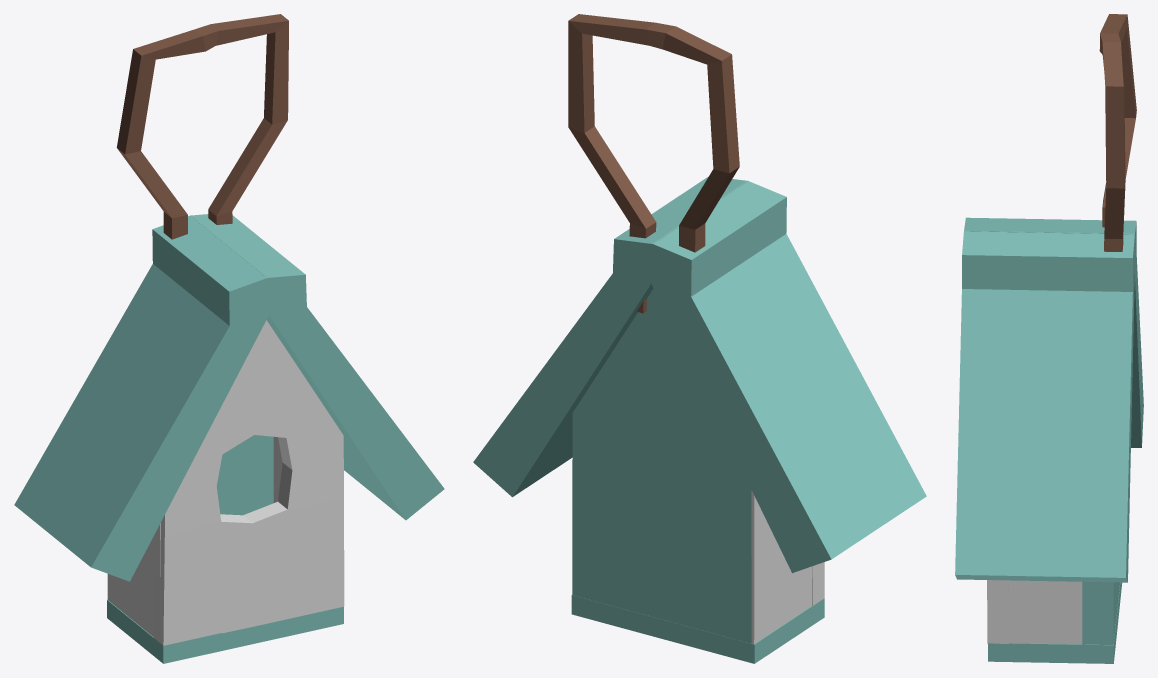
The model's file is Patio_Feeder.fbx.
The picture shows the model from 3 angles, left to right: view 1: azimuth 30°, elevation 25°; view 2: azimuth 150°, elevation 25°; view 3: azimuth 270°, elevation 25°; orthographic projection. The views are drawn at different scales.
Parts seen in each view (by area): view 1: Patio_Feeder; view 2: Patio_Feeder; view 3: Patio_Feeder.
Boxes of the visible parts, <box> form: Patio_Feeder: <box>14,14,444,663</box>; Patio_Feeder: <box>473,14,926,663</box>; Patio_Feeder: <box>955,14,1143,663</box>.
Bounding box in the file's own units: 39.99 × 18.11 × 61.94.
